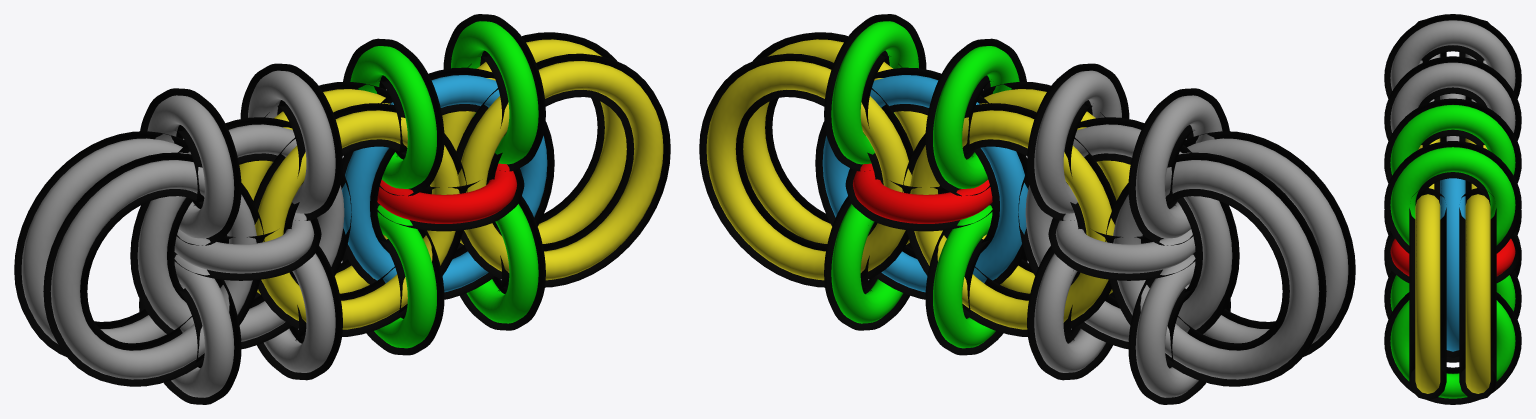
File: heltic_step_06.glb
3 renders of one model, left to right at view 1: azimuth 30°, elevation 25°; view 2: azimuth 150°, elevation 25°; view 3: azimuth 270°, elevation 25°, orthographic. The views are drawn at different scales.
Parts seen in each view (by area): view 1: Torus.012, Torus.003, Torus.004, Torus.008, Torus.014, Torus.002, Torus.006, Torus.017, Torus.018, Torus.005, Torus.013, Torus.009 (+6 smaller); view 2: Torus.013, Torus.002, Torus.001, Torus.008, Torus.014, Torus.003, Torus.006, Torus.017, Torus.018, Torus.005, Torus.012, Torus.009 (+6 smaller); view 3: Torus.012, Torus.013, Torus.018, Torus.005, Torus.006, Torus.017, Torus.015, Torus.014, Torus.011, Torus.016, Torus.008, Torus.010.
Part boxes in pixels (box(x1,y1,x2,y2)): Torus.012: box(456, 53, 670, 287); Torus.003: box(43, 152, 264, 386); Torus.004: box(253, 103, 467, 336); Torus.008: box(130, 117, 351, 348); Torus.014: box(342, 67, 554, 299); Torus.002: box(14, 131, 186, 356); Torus.006: box(140, 88, 241, 245); Torus.017: box(343, 38, 444, 196); Torus.018: box(443, 14, 545, 171); Torus.005: box(240, 63, 342, 220); Torus.013: box(442, 32, 626, 248); Torus.009: box(139, 254, 241, 404); Torus.013: box(699, 53, 913, 287); Torus.002: box(1105, 152, 1326, 386); Torus.001: box(902, 103, 1116, 336); Torus.008: box(1018, 117, 1239, 348); Torus.014: box(815, 67, 1027, 299); Torus.003: box(1183, 131, 1355, 356); Torus.006: box(1128, 88, 1229, 245); Torus.017: box(925, 38, 1026, 196); Torus.018: box(824, 14, 926, 171); Torus.005: box(1027, 63, 1129, 220); Torus.012: box(743, 32, 927, 248); Torus.009: box(1128, 254, 1230, 404); Torus.012: box(1409, 188, 1446, 400); Torus.013: box(1459, 188, 1496, 400); Torus.018: box(1384, 141, 1521, 253); Torus.005: box(1384, 56, 1521, 140); Torus.006: box(1384, 14, 1521, 98); Torus.017: box(1384, 98, 1521, 183); Torus.015: box(1384, 292, 1521, 404); Torus.014: box(1434, 178, 1471, 357); Torus.011: box(1384, 233, 1521, 282); Torus.016: box(1384, 271, 1521, 362); Torus.008: box(1434, 93, 1471, 141); Torus.010: box(1384, 231, 1521, 276).
Size of the model in its own units: 9.8 by 4.6 by 2.2.
